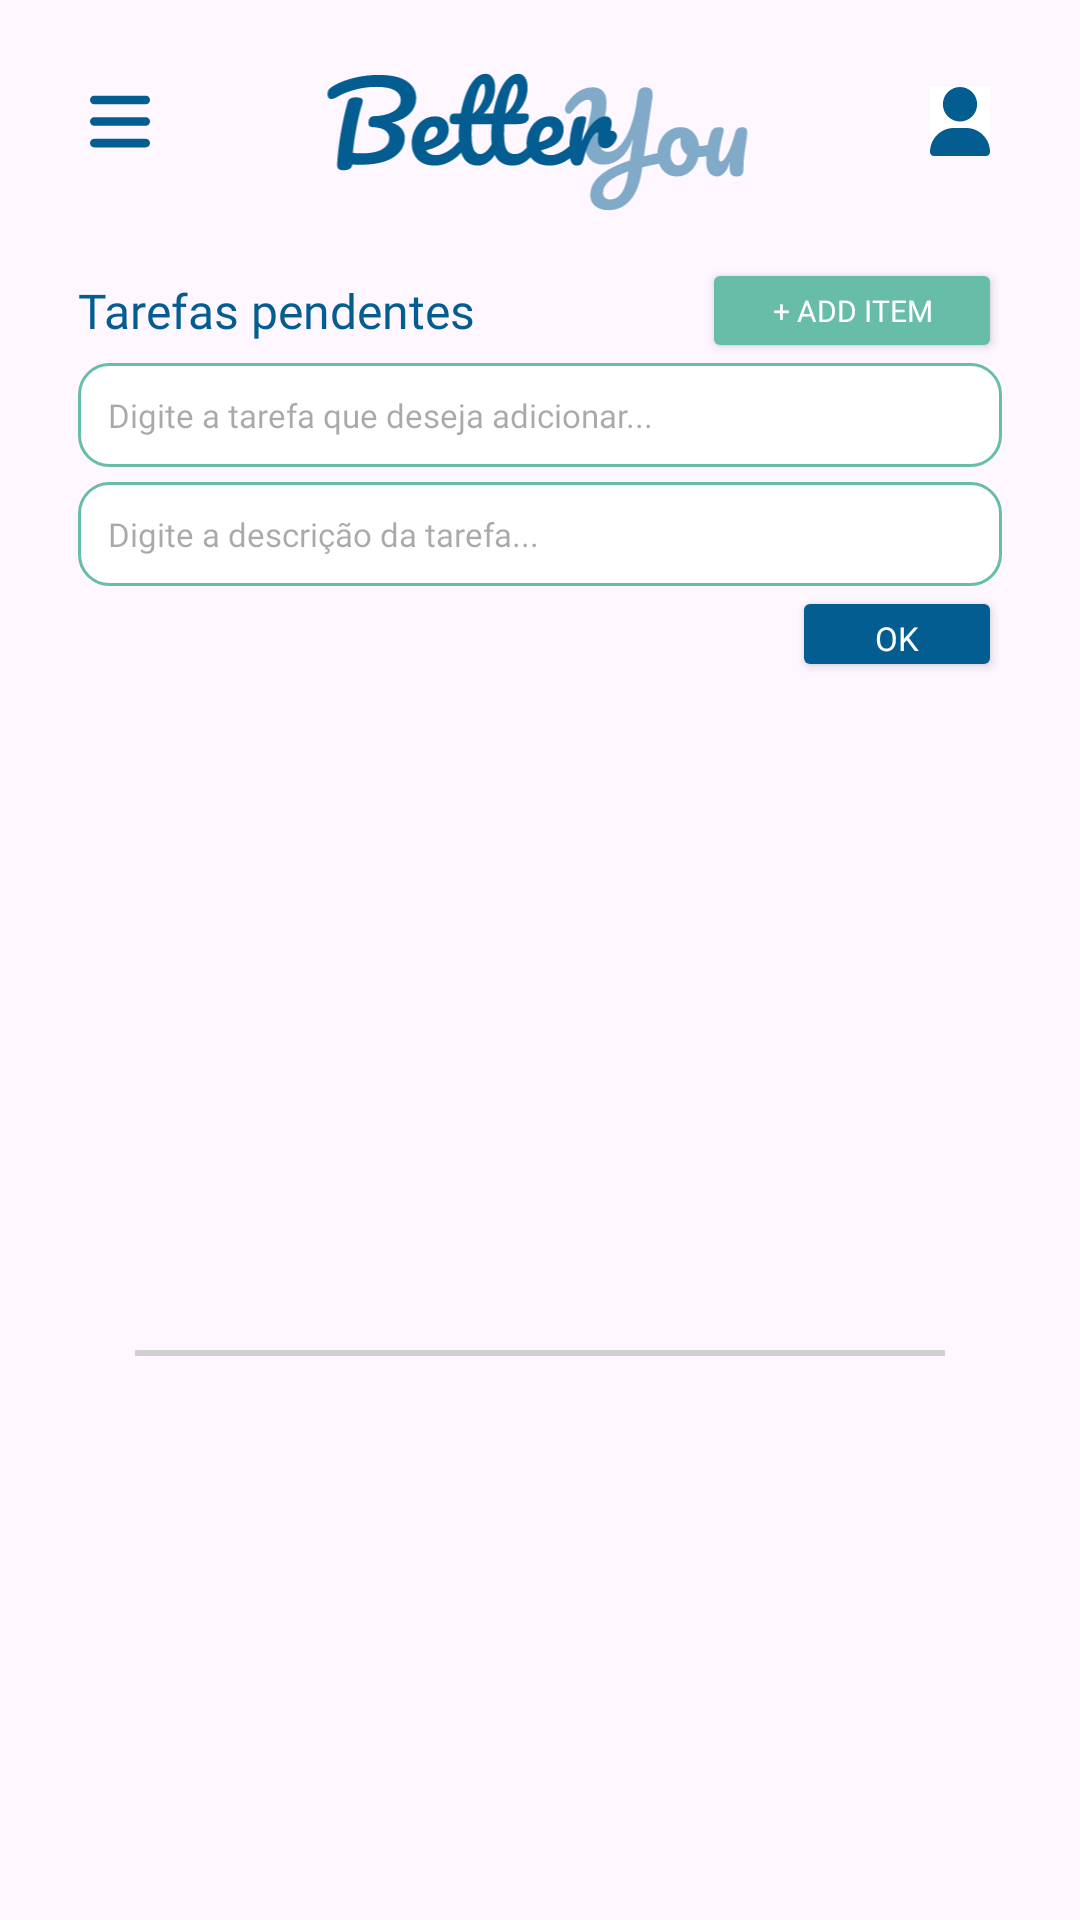

Named icons in this screenshot (1080 x 1920) and their centers, point (x, y):
adm: point (960, 121)
Menu: point (120, 121)
